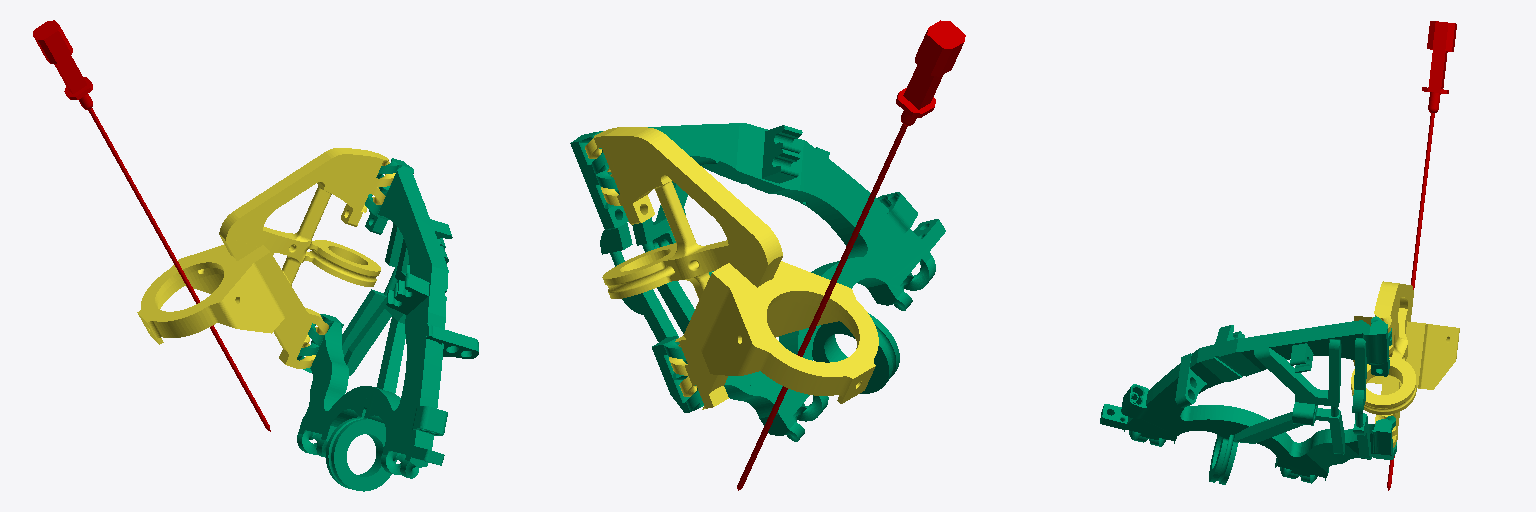
The robot description file, URDF, robot "spirits":
<?xml version = "1.0"?>
<robot name = "spirits" xmlns:xacro="http://www.ros.org/wiki/xacro">

  <!-- Used for fixing robot to 'base_link' -->
  <link name="world"/>

  <!-- Base Link -->
  <link name = "base_link">
    <visual>
      <origin xyz="0 0 0" rpy="0 0 0"/>
      <geometry>
        <mesh filename="package://spirits_description/meshes/bw_base.dae" scale="0.001 0.001 0.001"/>
      </geometry>
    </visual>

    <collision>
      <origin xyz="0 0 0" rpy="0 0 0"/>
      <geometry>
        <mesh filename="package://spirits_description/meshes/bw_base.dae" scale="0.001 0.001 0.001"/>
      </geometry>
    </collision>
  </link>


  <link name = "link1">
    <visual>
      <origin xyz="0 0 0" rpy="0 0 0"/>
      <geometry>
        <mesh filename="package://spirits_description/meshes/bras_1.dae" scale="0.001 0.001 0.001"/>
      </geometry>
    </visual>

    <collision>
      <origin xyz="0 0 0" rpy="0 0 0"/>
      <geometry>
        <mesh filename="package://spirits_description/meshes/bras_1.dae" scale="0.001 0.001 0.001"/>
      </geometry>
    </collision>
  </link>

  <link name = "link2">
    <visual>
      <origin xyz="0 0 0" rpy="0 0 0"/>
      <geometry>
        <mesh filename="package://spirits_description/meshes/bras_2.dae" scale="0.001 0.001 0.001"/>
      </geometry>
    </visual>

    <collision>
      <origin xyz="0 0 0" rpy="0 0 0"/>
      <geometry>
        <mesh filename="package://spirits_description/meshes/bras_2.dae" scale="0.001 0.001 0.001"/>
      </geometry>
    </collision>
  </link>

  <link name = "inchworm">
    <visual>
      <origin xyz="0 0 0" rpy="0 0 0"/>
      <geometry>
        <mesh filename="package://spirits_description/meshes/inchworm.dae" scale="0.001 0.001 0.001"/>
      </geometry>
    </visual>

    <collision>
      <origin xyz="0 0 0" rpy="0 0 0"/>
      <geometry>
        <mesh filename="package://spirits_description/meshes/inchworm.dae" scale="0.001 0.001 0.001"/>
      </geometry>
    </collision>
  </link>

  <link name = "needle">
    <visual>
      <origin xyz="0 0 0" rpy="0 0 0"/>
      <geometry>
        <mesh filename="package://spirits_description/meshes/needle.dae" scale="0.001 0.001 0.001"/>
      </geometry>
    </visual>

    <collision>
      <origin xyz="0 0 0" rpy="0 0 0"/>
      <geometry>
        <mesh filename="package://spirits_description/meshes/needle.dae" scale="0.001 0.001 0.001"/>
      </geometry>
    </collision>
  </link>

  <link name="tool0"/>


  <joint name="base2world" type="fixed">
    <parent link="world"/>
    <child link="base_link"/>
    <origin xyz="0 0 0" rpy="1.5707 0 0"/>
  </joint>

  <joint name="joint1" type="revolute">
    <parent link="base_link"/>
    <child link="link1"/>
    <origin xyz="0.0 0.0168232 0.0627852" rpy="3.0205411 0.2327037 1.0853922"/>
    <axis xyz="0 0 1"/>
    <limit velocity="4.8" effort="1" lower="-0.5" upper="0.5" />
  </joint>

  <joint name="joint2" type="revolute">
    <parent link="link1"/>
    <child link="link2"/>
    <origin xyz="0.0627852 0.0 0.0481768" rpy="1.3086534 -0.0505738 -1.5572328"/>
    <axis xyz="0 0 1"/>
    <limit velocity="4.8" effort="1" lower="-0.5" upper="0.5" />
  </joint>

  <joint name="joint3" type="fixed">
    <parent link="link2"/>
    <child link="inchworm"/>
    <origin xyz="0.0496053 0.0 0.0262441" rpy="0 -0.9075717 0.0"/>
  </joint> 

  <joint name="needle2inchworm" type="prismatic">
      <origin rpy="0 0 0" xyz="0 0 0.06295"/>
      <parent link="inchworm"/>
      <child link="needle"/>
      <axis xyz="0 0 1"/>
      <limit velocity="4.8" effort="1" lower="-0.01" upper="0.08" />
  </joint>

  <joint name="tool02needle" type="fixed">
      <origin rpy="0 0 0" xyz="0 0 0"/>
      <parent link="needle"/>
      <child link="tool0"/>
      <axis xyz="0 0 0"/>
  </joint>

</robot>

--- Render facts (derived) ---
The picture shows the robot from 3 angles, left to right: view 1: azimuth 30°, elevation 25°; view 2: azimuth 150°, elevation 25°; view 3: azimuth 270°, elevation 25°; orthographic projection.
Model spirits with 7 links and 6 joints (2 revolute, 1 prismatic, 3 fixed), rooted at world, posed all joints at 0.
Visible links, largest first — view 1: link1, link2, needle; view 2: link2, link1, needle; view 3: link1, link2, needle.
Link boxes in pixels (x1=…): link1: x1=297, y1=158, x2=478, y2=491; link2: x1=137, y1=148, x2=395, y2=368; needle: x1=33, y1=20, x2=270, y2=431; link2: x1=585, y1=127, x2=878, y2=409; link1: x1=570, y1=123, x2=945, y2=441; needle: x1=737, y1=20, x2=965, y2=490; link1: x1=1100, y1=316, x2=1396, y2=484; link2: x1=1351, y1=281, x2=1459, y2=447; needle: x1=1387, y1=21, x2=1456, y2=490.
Bounding box of the posed robot: 0.1347 × 0.1382 × 0.1648 m (x, y, z).
Meshes: 5 distinct files referenced, 3 mesh visuals loaded (3 Collada DAE); not drawn: 2 (reference not matched to a file when rendering).